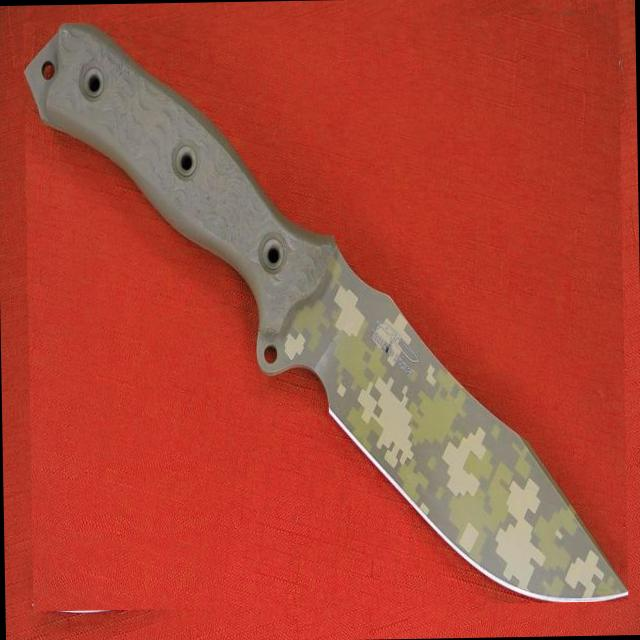Knife: (25, 23, 628, 602)
